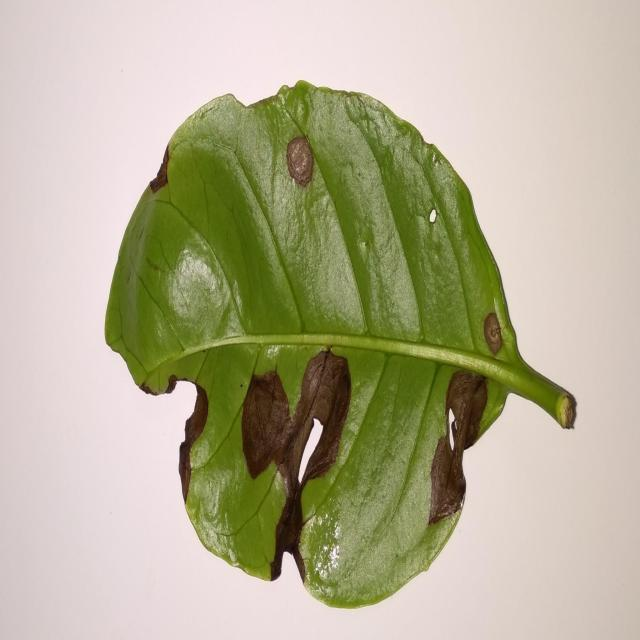Enfermedad-Antracnosis: (106, 81, 578, 612)
